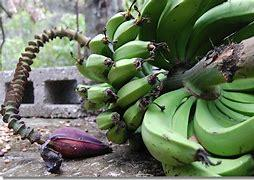banana: (82, 0, 254, 169), (129, 71, 246, 180), (64, 12, 156, 115), (134, 0, 254, 56)
